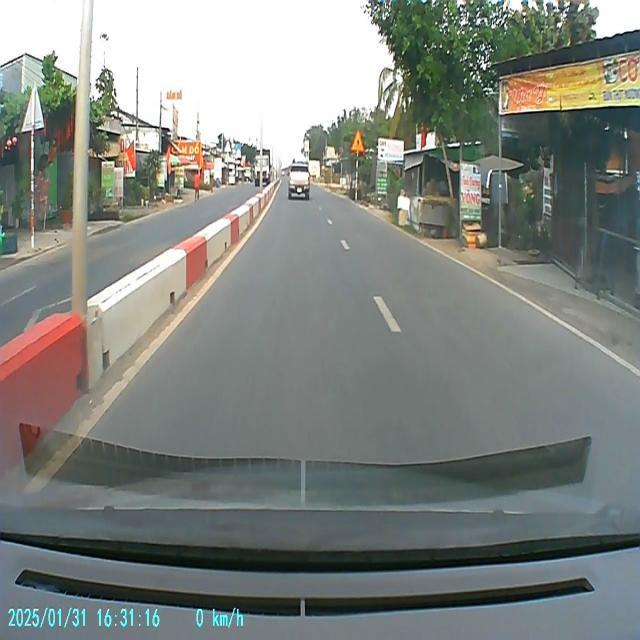224-duong-nguoi-di-bo-cat-ngang: (350, 126, 365, 152)
